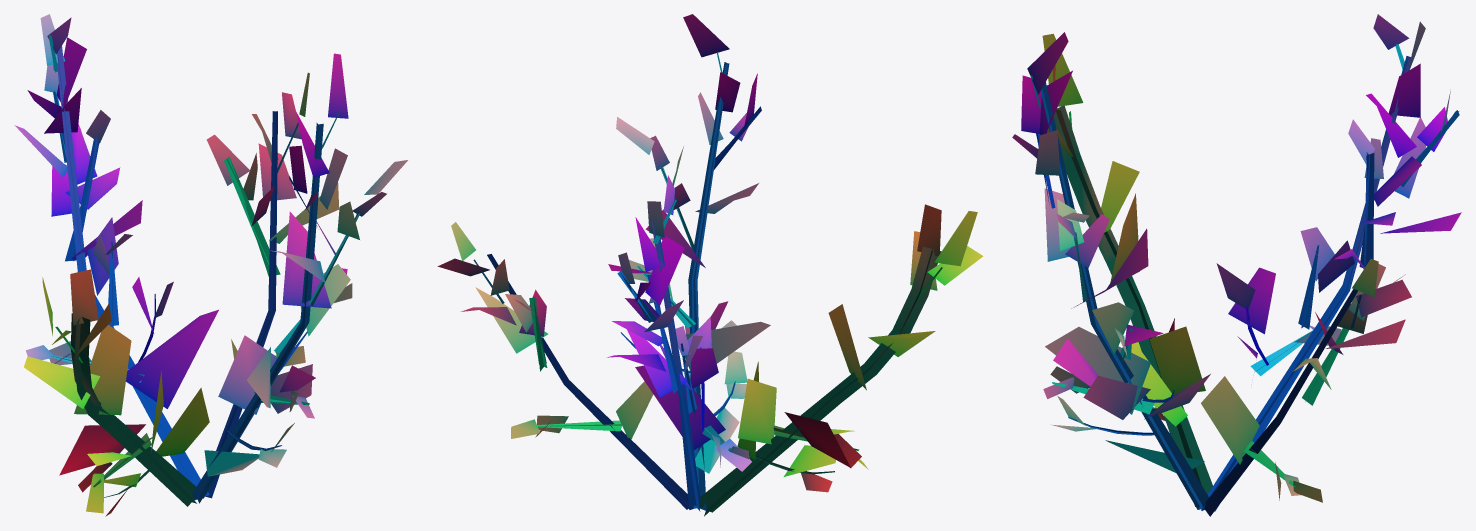
File: Creeping_Saltbush_thckfiqr_Mid_thckfiqr_VarC_LOD2.fbx
The picture shows the model from 3 angles, left to right: view 1: azimuth 30°, elevation 25°; view 2: azimuth 150°, elevation 25°; view 3: azimuth 270°, elevation 25°; orthographic projection. The views are drawn at different scales.
Visible parts, largest first — view 1: _1c60_VarC_LOD3; view 2: _1c60_VarC_LOD3; view 3: _1c60_VarC_LOD3.
Part boxes in pixels (x1,y1,x2,y2): _1c60_VarC_LOD3: (14,14,407,516); _1c60_VarC_LOD3: (437,14,983,516); _1c60_VarC_LOD3: (1012,14,1461,516).
Bounding box in the file's own units: 36.03 × 39.04 × 30.71.
